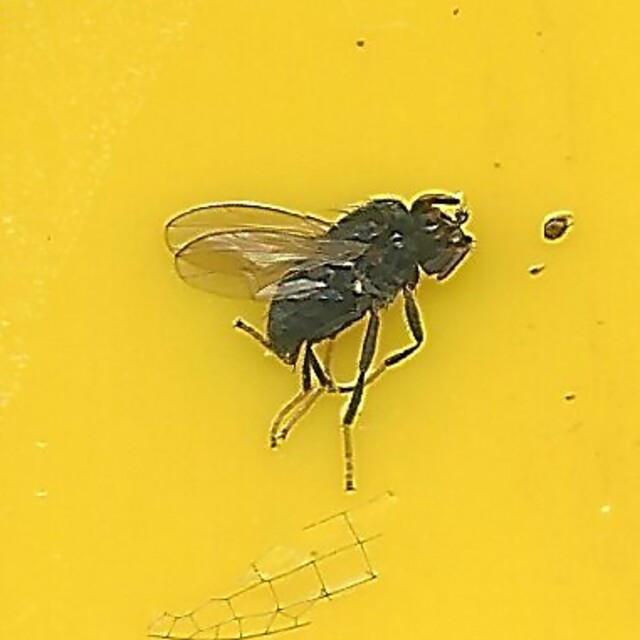Brachycera: (168, 166, 472, 474)
